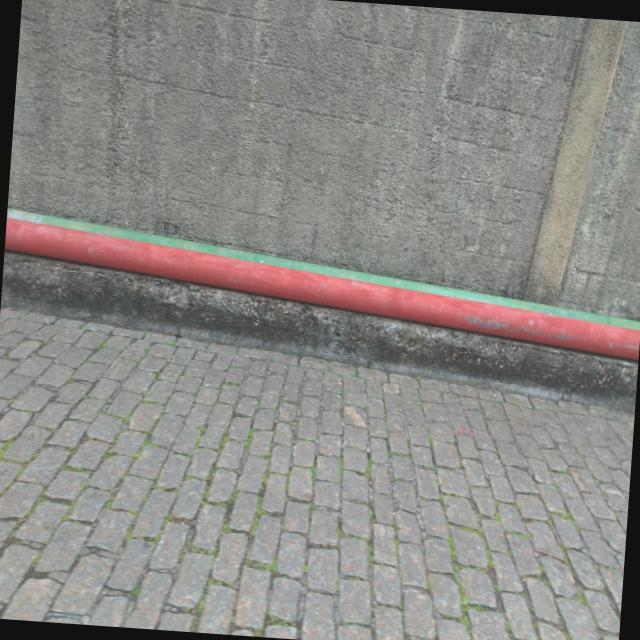gas: (4, 218, 640, 361)
